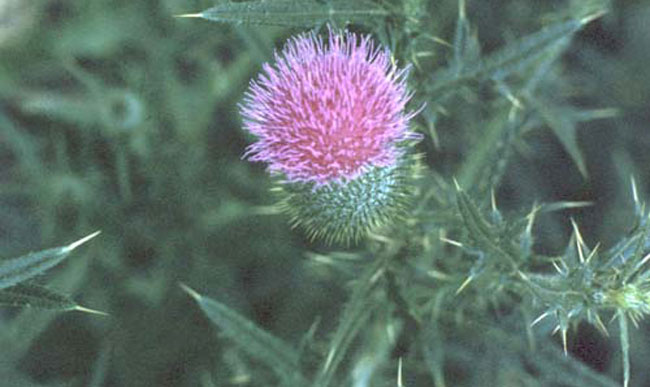thistle: (240, 27, 428, 256)
